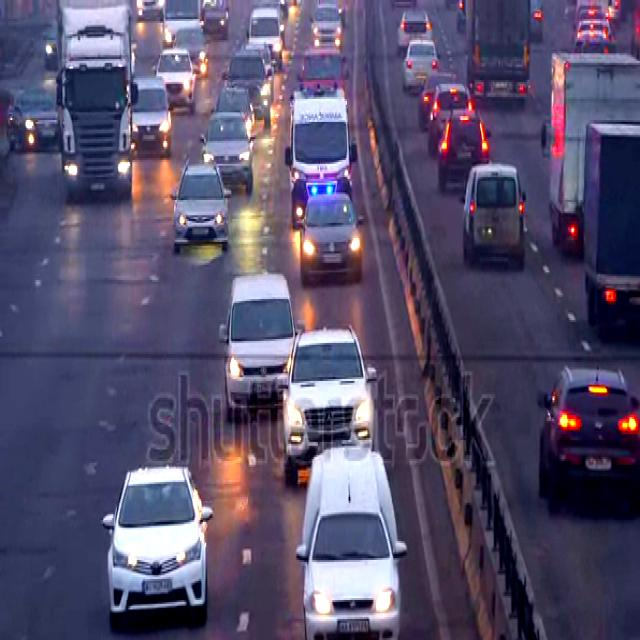ambulance: (289, 88, 357, 226)
